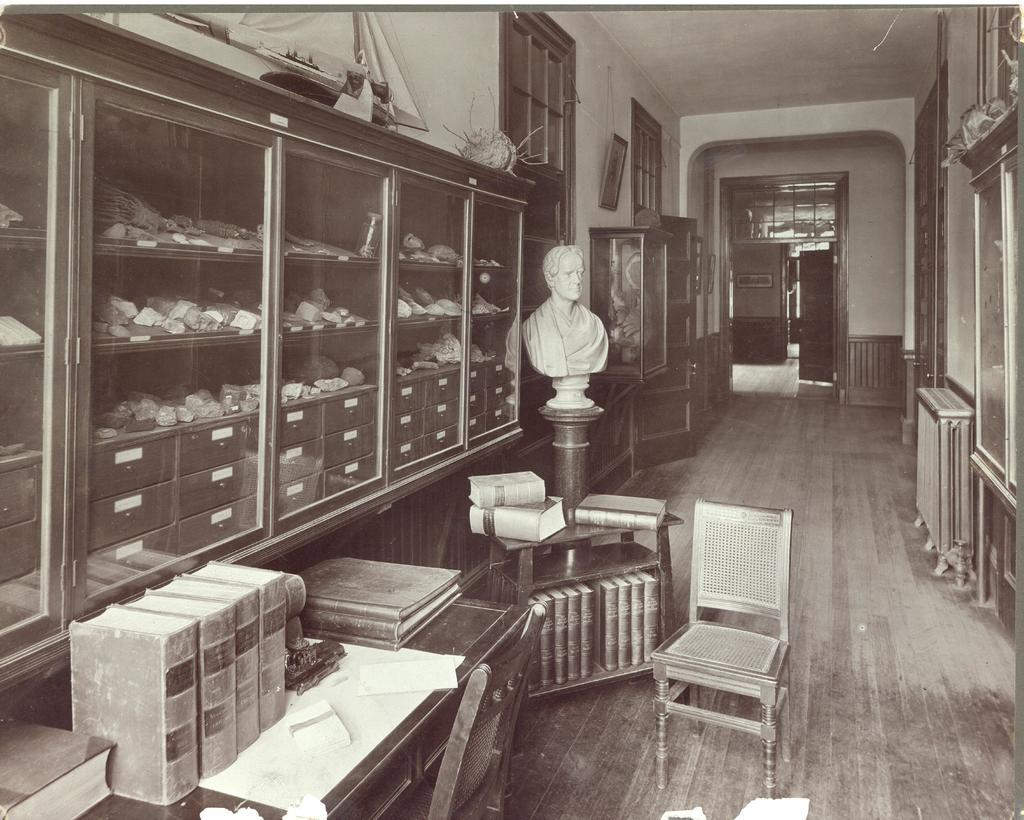Chair: (638, 515, 796, 774)
